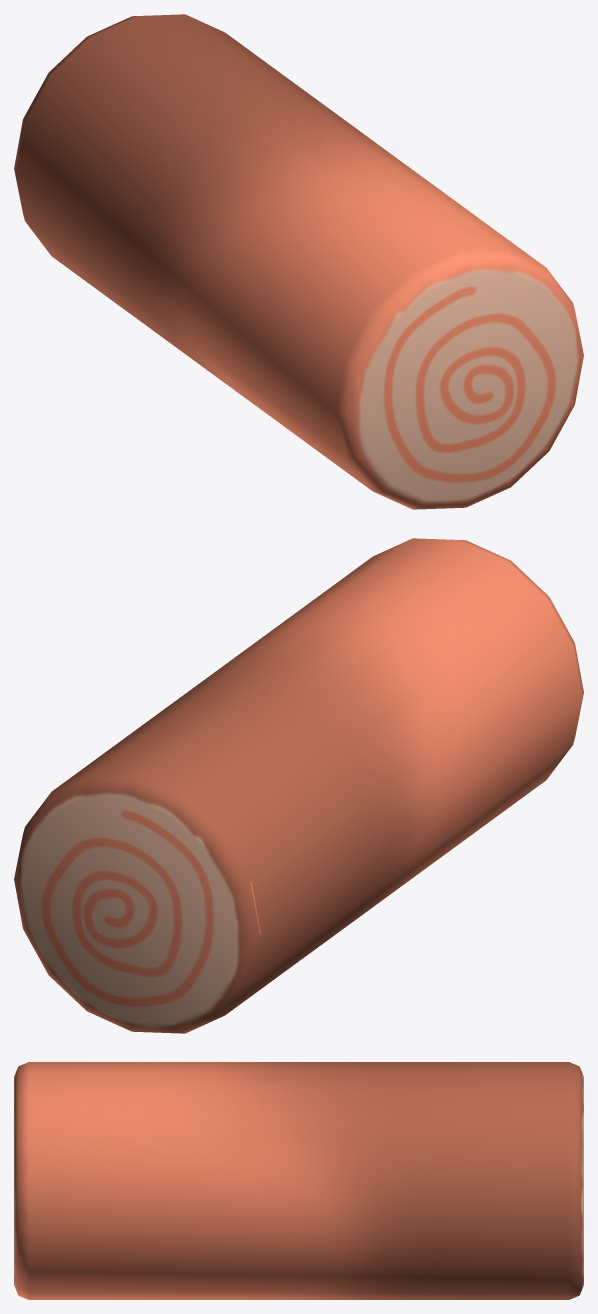
Rendered from wood.fbx.
3 renders of one model, top to bottom at view 1: azimuth 30°, elevation 25°; view 2: azimuth 150°, elevation 25°; view 3: azimuth 270°, elevation 25°, orthographic. The views are drawn at different scales.
Visible parts, largest first — view 1: wood.001; view 2: wood.001; view 3: wood.001.
Part boxes in pixels (x1,y1,x2,y2): wood.001: (14,14,583,509); wood.001: (14,538,583,1033); wood.001: (14,1062,583,1299).
Bounding box in the file's own units: 20.32 × 20.32 × 48.64.
